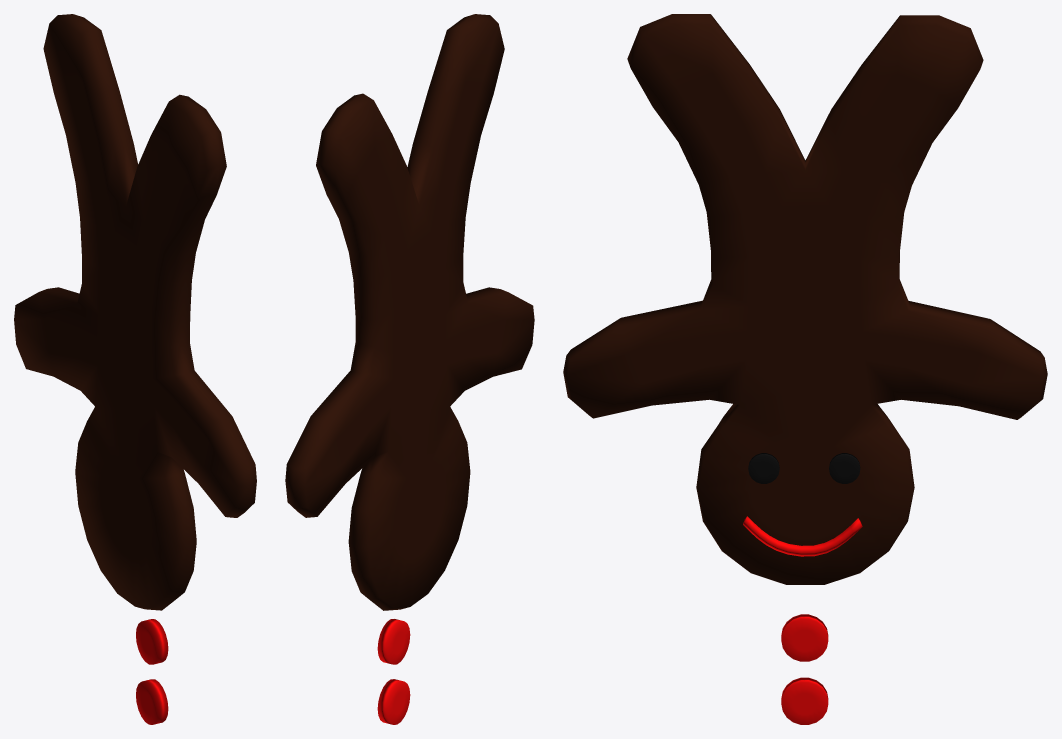
Rendered from GINGER BREAD MAN.FBX.
3 renders of one model, left to right at view 1: azimuth 30°, elevation 25°; view 2: azimuth 150°, elevation 25°; view 3: azimuth 270°, elevation 25°, orthographic. The views are drawn at different scales.
Visible parts, largest first — view 1: Ginger bread man, Button1, Button2; view 2: Ginger bread man, Button1, Button2; view 3: Ginger bread man, Button2, Button1, Smile, Left EYE, Right EYE.
Boxes of the visible parts, box(x1,y1,x2,y2) form: Ginger bread man: box(14, 14, 256, 610); Button1: box(136, 619, 168, 664); Button2: box(136, 679, 168, 724); Ginger bread man: box(285, 14, 534, 610); Button1: box(377, 619, 410, 664); Button2: box(377, 679, 410, 724); Ginger bread man: box(563, 14, 1047, 584); Button2: box(781, 677, 828, 724); Button1: box(781, 614, 828, 661); Smile: box(743, 516, 862, 556); Left EYE: box(748, 453, 779, 483); Right EYE: box(829, 453, 860, 483).
Bounding box in the file's own units: 12.15 × 234 × 147.
